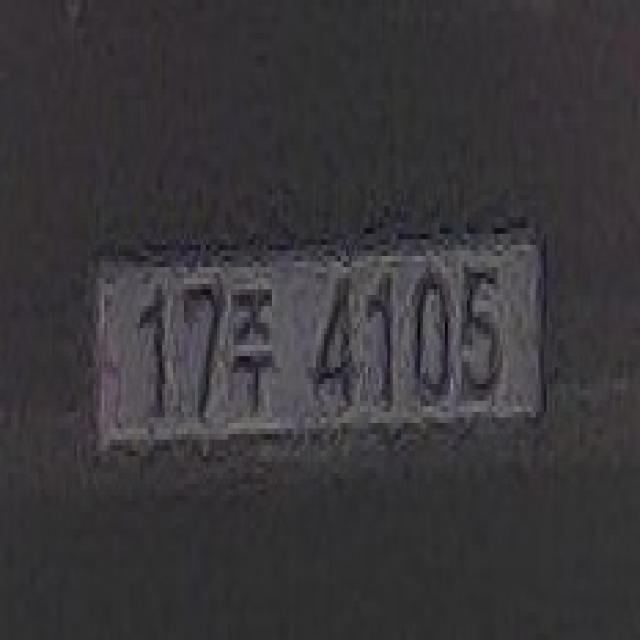0: (404, 250, 456, 423)
1: (135, 278, 173, 440), (363, 262, 398, 434)
4: (308, 273, 362, 423)
5: (456, 256, 511, 417)
7: (176, 273, 228, 445)
ju: (225, 278, 278, 434)
license_plate: (85, 211, 558, 490)
